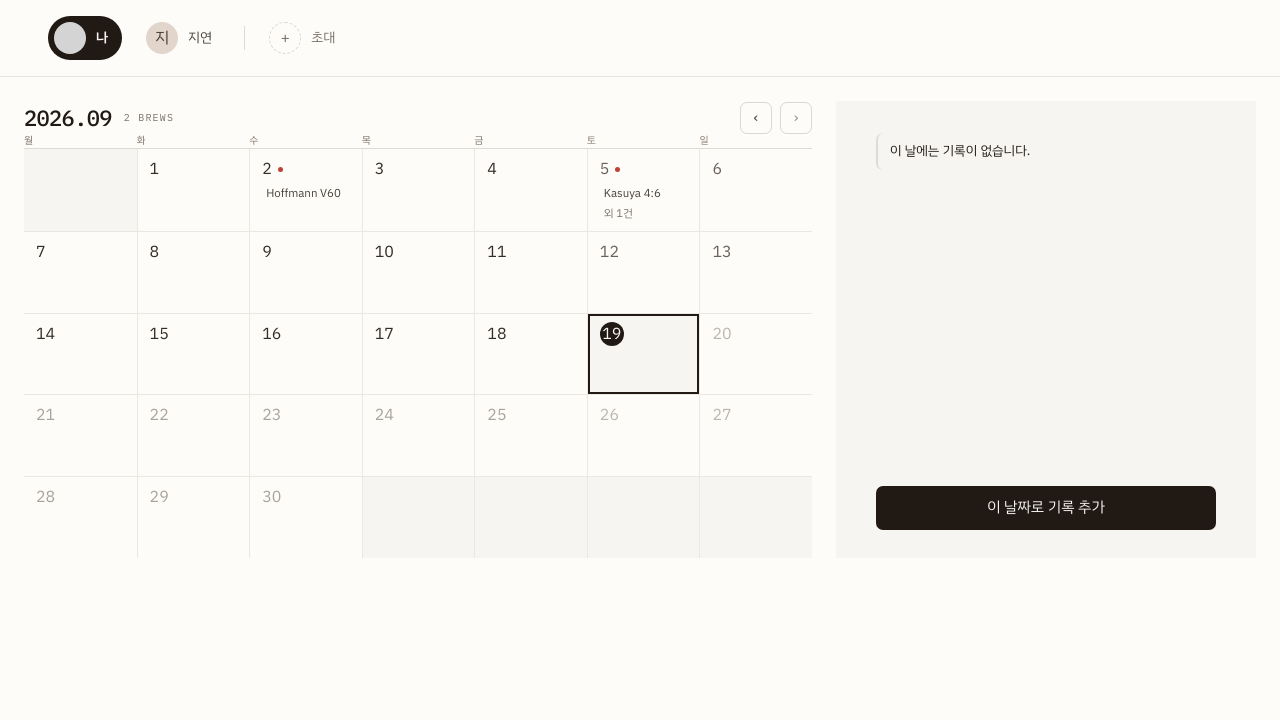
Test: HomePage › AC-HOMECAL-28 · 날짜를 누르면 목록이 그 날짜 기록으로 바뀐다
This screenshot has width=1280, height=720.
Expected: the text "2026.09" is shown, [24, 101, 112, 134]
Click the button with aria-label "9월 5일, 기록 2건".
click(643, 190)  # box [587, 149, 699, 231]
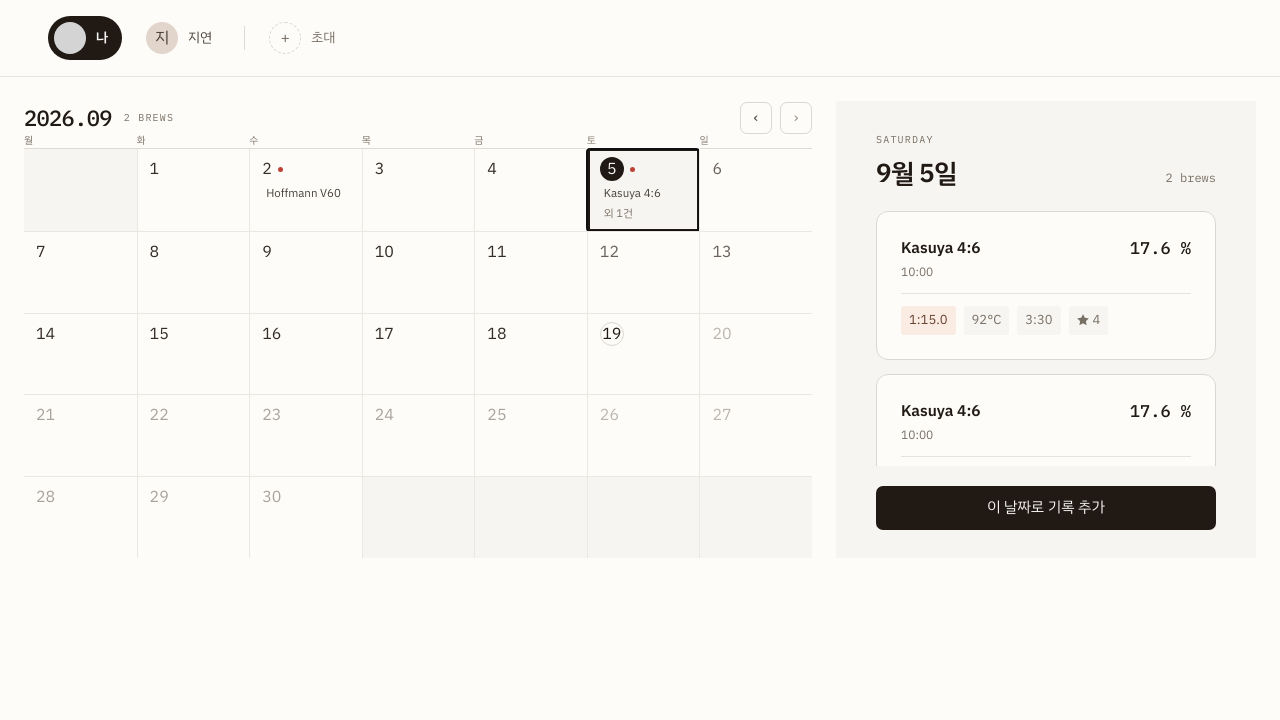
Result: the text "SATURDAY" is shown at [876, 133, 934, 146]
Result: the text with test id "day-header-date" reads "9월 5일" at [876, 154, 956, 193]
Result: the number of elements with test id "day-card" is 2 at [876, 211, 1216, 360]; [876, 374, 1216, 466]
